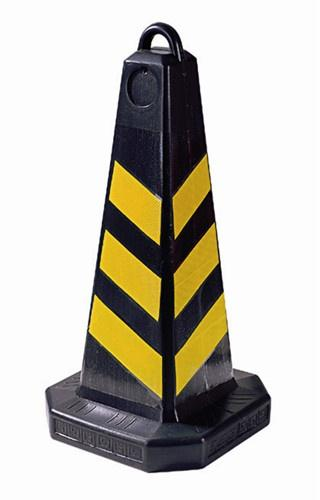cone_barrel: (58, 27, 261, 481)
